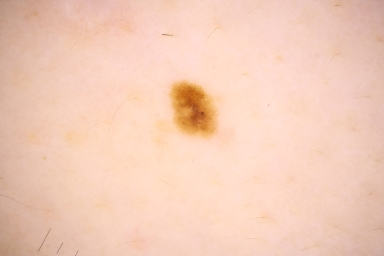melanoma: (171, 83, 219, 138)
